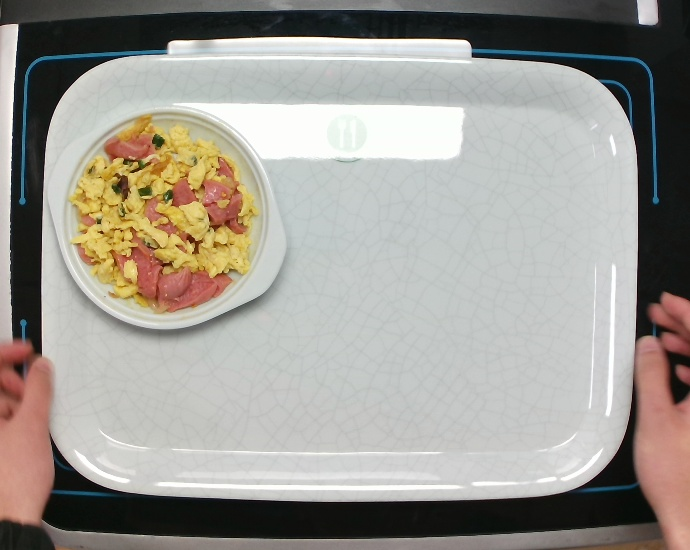JYsf-Shuang_Er_Pan: (45, 102, 290, 332)
